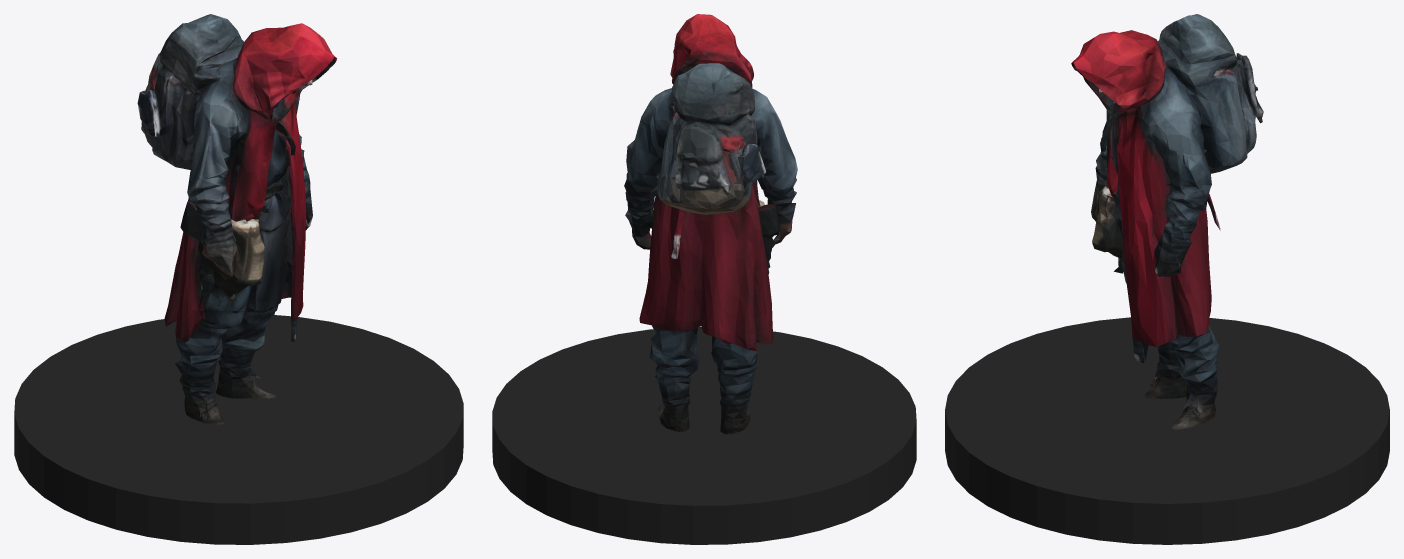
File: john-price.glb
3 renders of one model, left to right at view 1: azimuth 30°, elevation 25°; view 2: azimuth 150°, elevation 25°; view 3: azimuth 270°, elevation 25°, orthographic. The views are drawn at different scales.
Visible parts, largest first — view 1: base, figure; view 2: base, figure; view 3: base, figure.
Boxes of the visible parts, x1=… form: base: x1=14, y1=315, x2=463, y2=544; figure: x1=137, y1=14, x2=337, y2=424; base: x1=492, y1=326, x2=916, y2=544; figure: x1=624, y1=14, x2=797, y2=434; base: x1=945, y1=317, x2=1389, y2=544; figure: x1=1071, y1=14, x2=1263, y2=429.
Bounding box in the file's own units: 1.18 × 1.27 × 1.18.
Materials: 2 (1 with a texture image).
